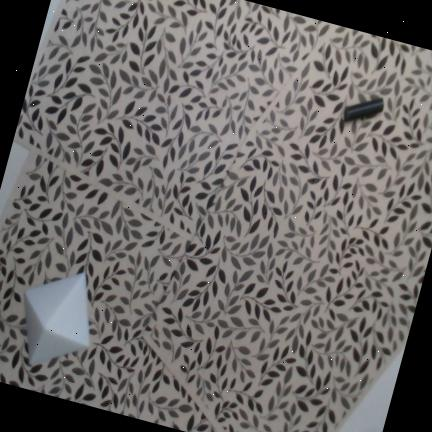Cilindro: (343, 97, 384, 120)
Piramide: (22, 271, 90, 365)
